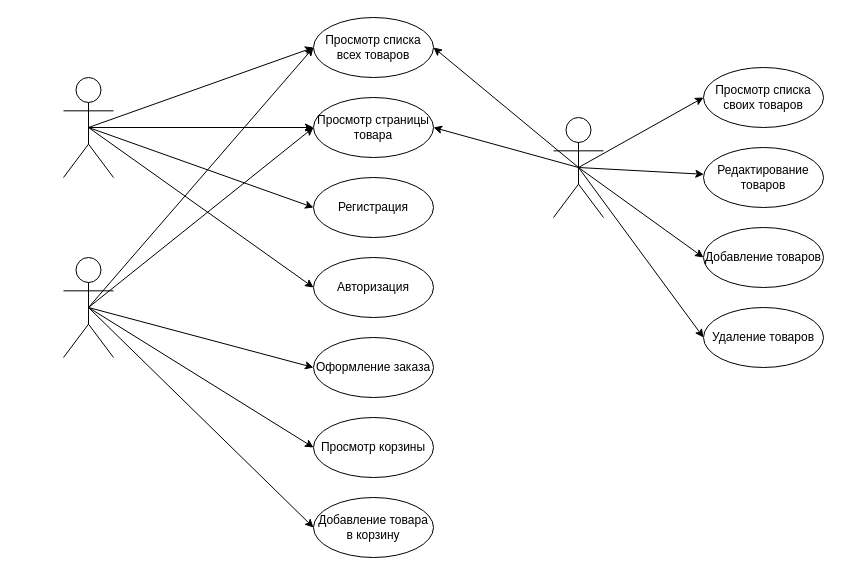
Some shapes in this 841 by 575 pixel diagram are drawn without their labels. Each missing label, with the centre of its shape:
Авторизованный пользователь: point (88, 307)
Гость: point (88, 127)
Продавец: point (578, 167)
